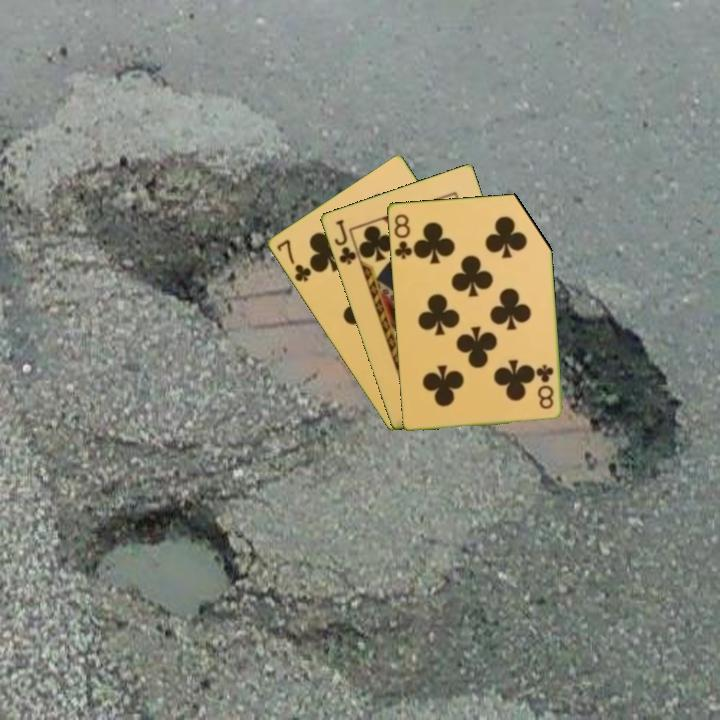7c: (273, 235, 314, 285)
8c: (390, 210, 415, 262), (533, 361, 556, 412)
Jc: (331, 216, 359, 268)
